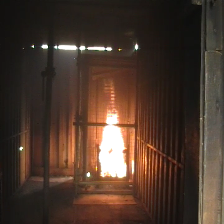fire_h: (99, 107, 127, 178), (104, 79, 116, 105)
